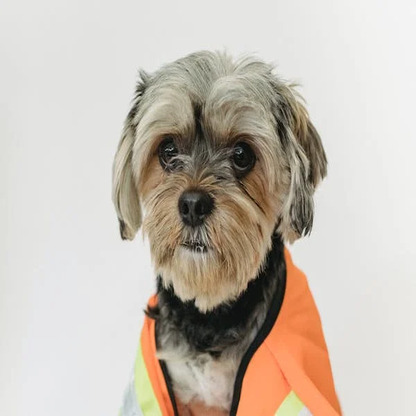yorkshire: (112, 48, 329, 317)
